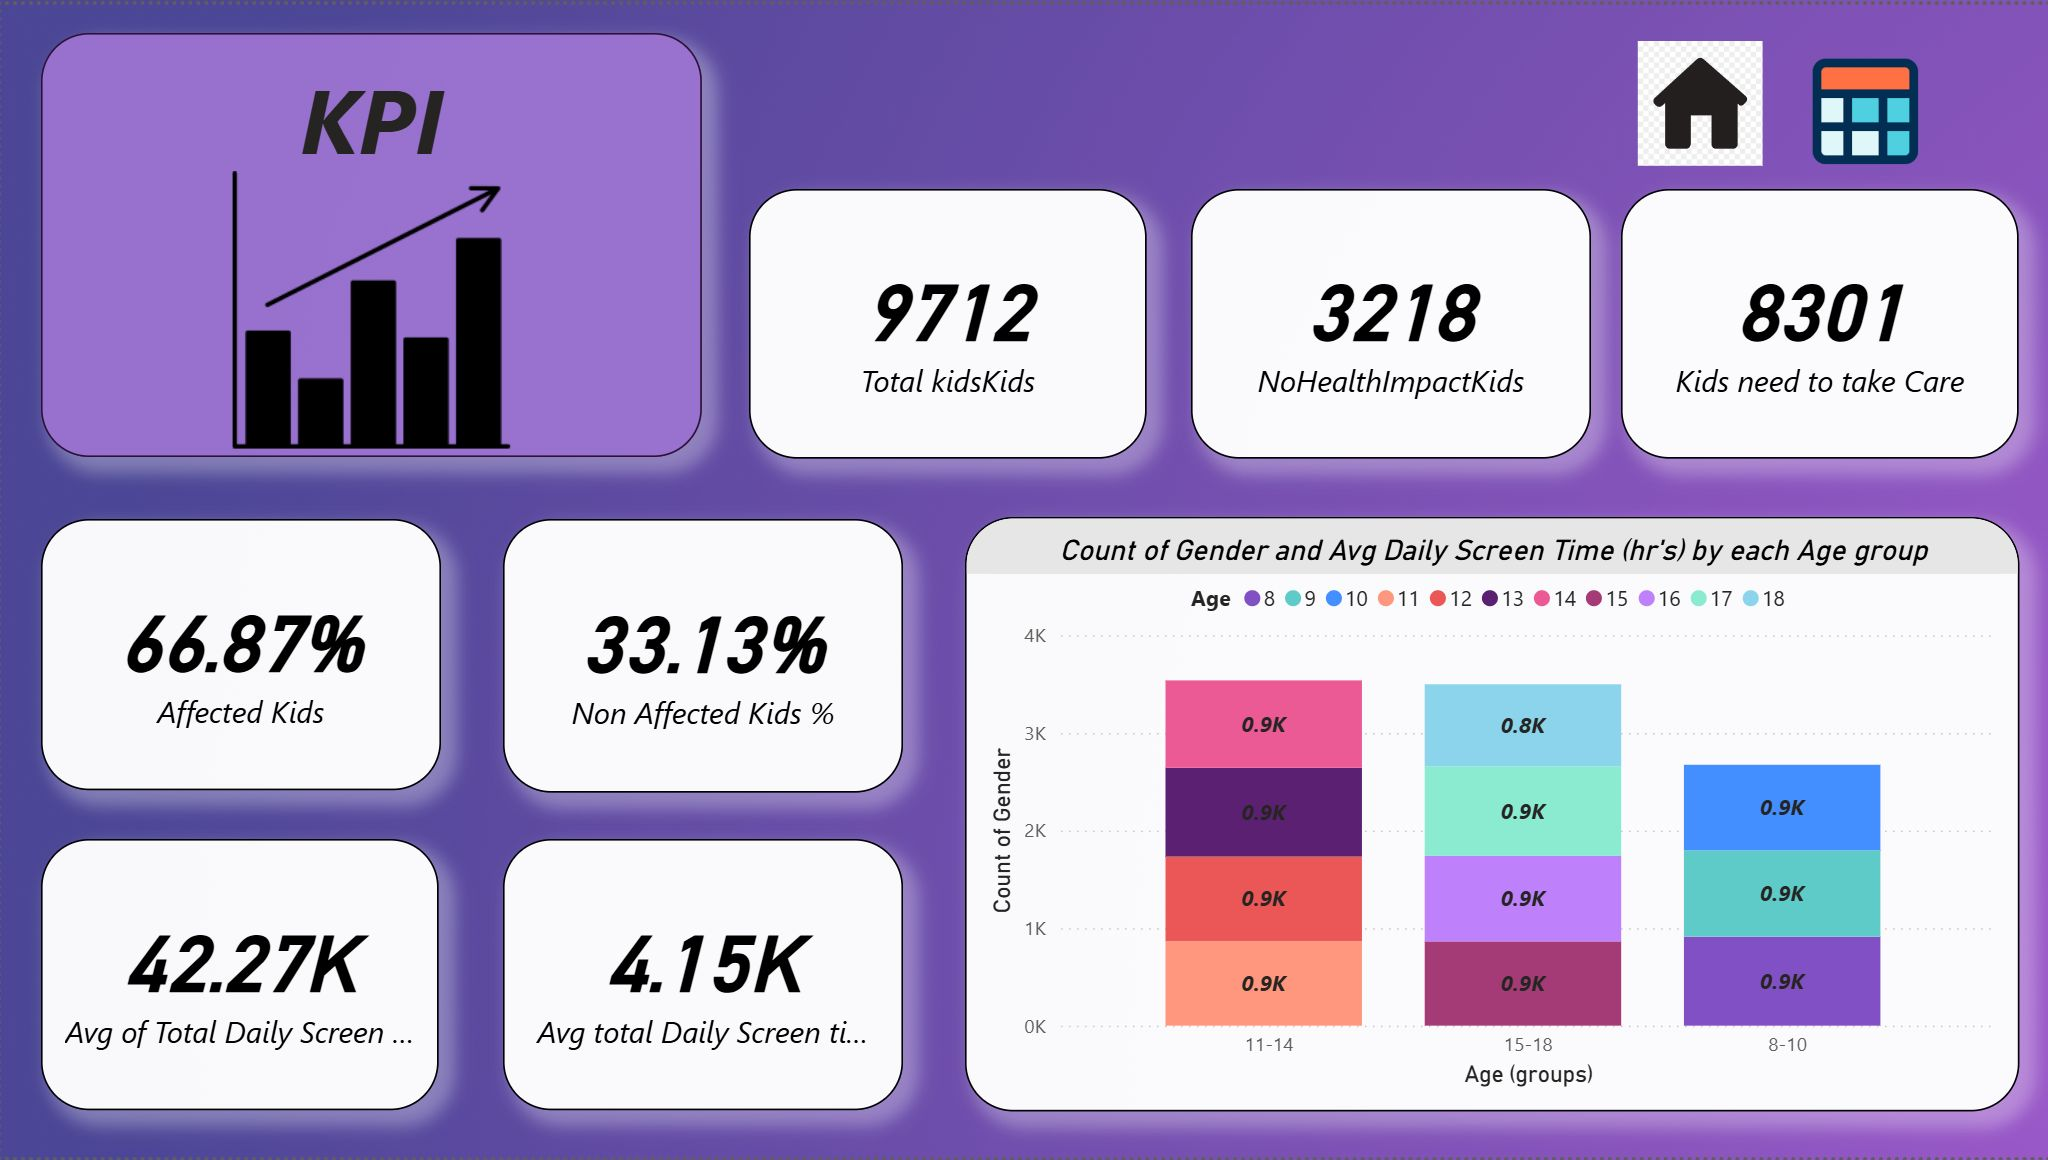

This screenshot's page, from the dashboard's own definition file:
{"tool":"powerbi","page":{"name":"KPI","canvas":[1280,720],"ordinal":3},"visuals":[{"type":"columnChart","title":"Count of Gender and Avg Daily Screen Time (hr''s) by each Age  group","fields":{"Category":["Indian_Kids_Screen_Time.Age (groups)"],"Y":["CountNonNull(Indian_Kids_Screen_Time.Gender)"],"Series":["Indian_Kids_Screen_Time.Age"]},"box":[602.5,320,658.8,371.2],"z":0},{"type":"card","fields":{"Values":["Indian_Kids_Screen_Time.Total kidsKids"]},"box":[467.9,114.7,248.6,168.3],"z":1000},{"type":"card","fields":{"Values":["Indian_Kids_Screen_Time.NoHealthImpactKids"]},"box":[743.3,114.7,249.9,168.3],"z":2000},{"type":"card","fields":{"Values":["Indian_Kids_Screen_Time.Total kidsKids %"]},"box":[313.6,321.3,249.9,170.8],"z":3000},{"type":"card","fields":{"Values":["Indian_Kids_Screen_Time.Affected Kids"]},"box":[25.5,321.3,249.9,169.6],"z":4000},{"type":"card","fields":{"Values":["Sum(Indian_Kids_Screen_Time.Educational_to_Recreational_Ratio)"]},"box":[313.6,521.4,249.9,169.6],"z":5000},{"type":"card","fields":{"Values":["Sum(Indian_Kids_Screen_Time.Avg_Daily_Screen_Time_hr)"]},"box":[25.5,521.4,248.6,169.6],"z":6000},{"type":"card","fields":{"Values":["Indian_Kids_Screen_Time.Total kidsKids"]},"box":[1012.3,114.7,248.6,168.3],"z":7000},{"type":"textbox","box":[25.5,17.8,413.1,265.2],"z":8000,"group":"g1"},{"type":"image","box":[1012.3,17.8,99.4,88],"z":8000},{"type":"image","box":[1093.9,17.8,142.8,98.2],"z":9000},{"type":"image","box":[81.6,99.4,300.9,183.6],"z":9000,"group":"g1"},{"type":"group","id":"g1","title":"Group 1","box":[25.5,17.8,413.1,265.2],"z":10000}]}

Visuals, with their boxes in screenshot pixels (x1, y1, x2, y2), scaled from the page's 1280x720 canvas onto the 2048x1160 screenshot:
"Count of Gender and Avg Daily Screen Time (hr''s) by each Age  group" columnChart: bbox=[964, 516, 2018, 1114]
card - Indian_Kids_Screen_Time.Total kidsKids: bbox=[749, 185, 1146, 456]
card - Indian_Kids_Screen_Time.NoHealthImpactKids: bbox=[1189, 185, 1589, 456]
card - Indian_Kids_Screen_Time.Total kidsKids %: bbox=[502, 518, 902, 793]
card - Indian_Kids_Screen_Time.Affected Kids: bbox=[41, 518, 441, 791]
card - Sum(Indian_Kids_Screen_Time.Educational_to_Recreational_Ratio): bbox=[502, 840, 902, 1113]
card - Sum(Indian_Kids_Screen_Time.Avg_Daily_Screen_Time_hr): bbox=[41, 840, 439, 1113]
card - Indian_Kids_Screen_Time.Total kidsKids: bbox=[1620, 185, 2017, 456]
textbox: bbox=[41, 29, 702, 456]
image: bbox=[1620, 29, 1779, 170]
image: bbox=[1750, 29, 1979, 187]
image: bbox=[131, 160, 612, 456]
"Group 1" group: bbox=[41, 29, 702, 456]
